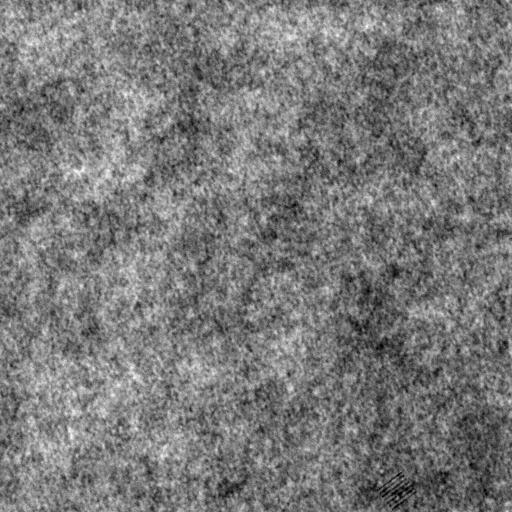DefectTypeB: (378, 469, 414, 507)
